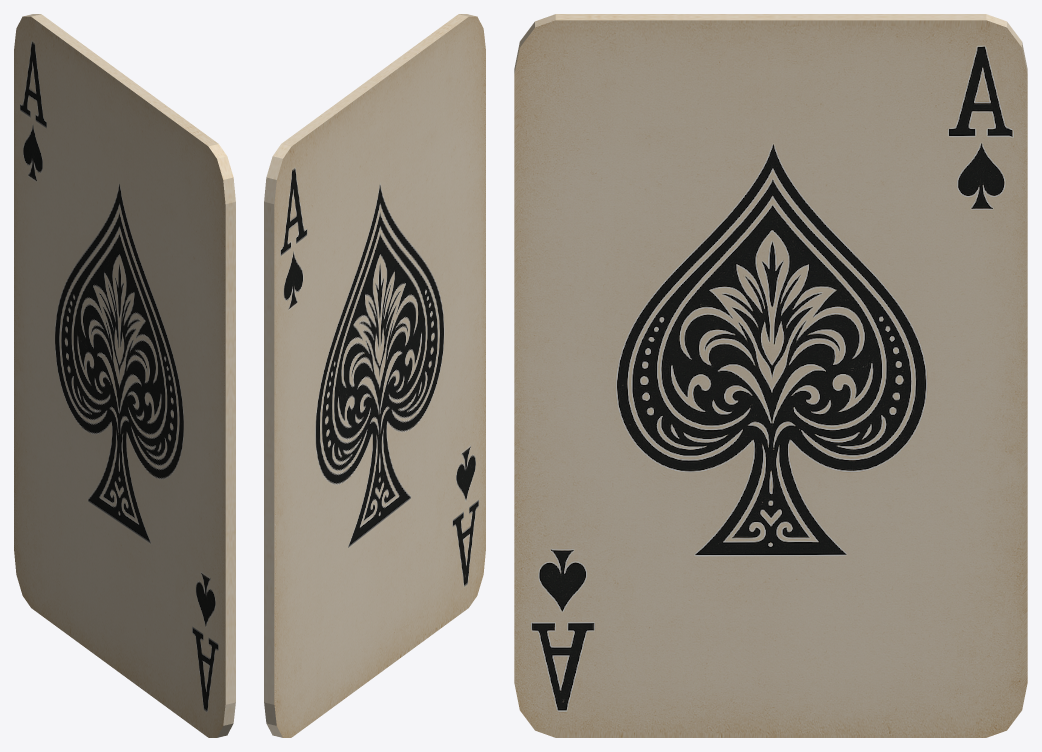
File: CardWeapon.glb
3 renders of one model, left to right at view 1: azimuth 30°, elevation 25°; view 2: azimuth 150°, elevation 25°; view 3: azimuth 270°, elevation 25°, orthographic. The views are drawn at different scales.
Parts seen in each view (by area): view 1: Plane; view 2: Plane; view 3: Plane.
Boxes of the visible parts, box(x1,y1,x2,y2) form: Plane: box(14, 14, 235, 737); Plane: box(264, 14, 485, 737); Plane: box(514, 14, 1027, 737).
Bounding box in the file's own units: 0.00338 × 0.1831 × 0.1186.
1 material, 1 textured.
